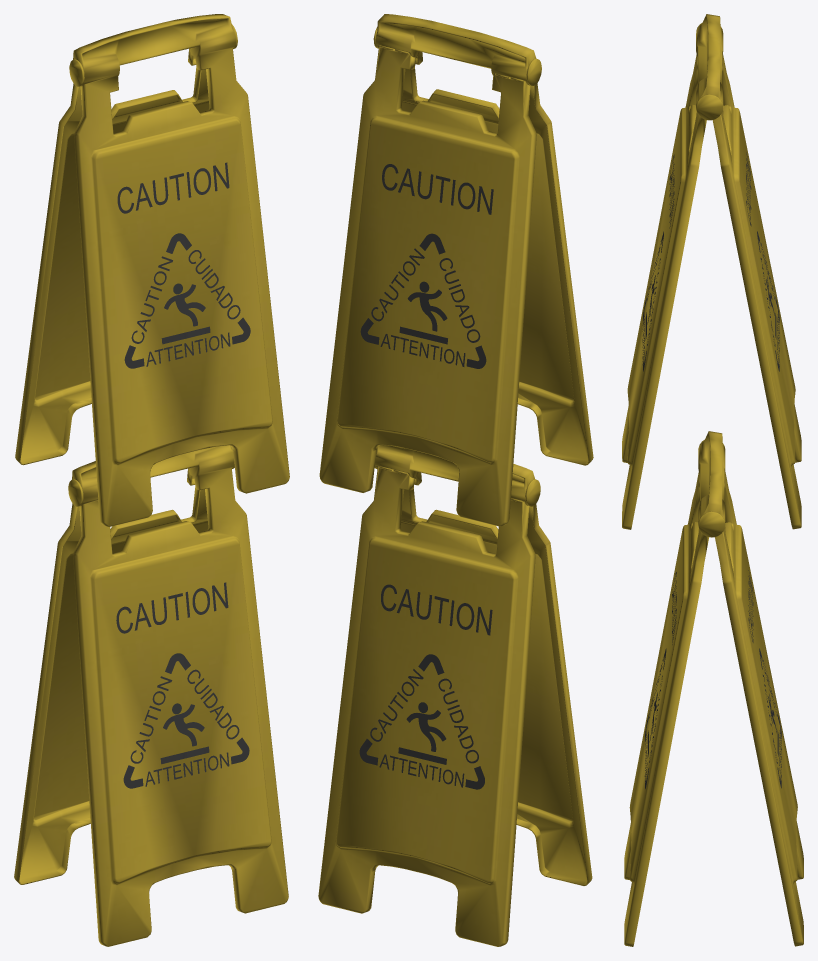
File: sign_wetFloor_a01.glb
3 renders of one model, left to right at view 1: azimuth 30°, elevation 25°; view 2: azimuth 150°, elevation 25°; view 3: azimuth 270°, elevation 25°, orthographic.
Visible parts, largest first — view 1: sm_backpanel_a01_mesh_00 (×2), sm_frontpanel_a01_mesh_00 (×2); view 2: sm_frontpanel_a01_mesh_00 (×2), sm_backpanel_a01_mesh_00 (×2); view 3: sm_backpanel_a01_mesh_00 (×2), sm_frontpanel_a01_mesh_00 (×2).
Boxes of the visible parts, x1=… form: sm_backpanel_a01_mesh_00 (×2): x1=68, y1=14, x2=289, y2=946; sm_frontpanel_a01_mesh_00 (×2): x1=14, y1=49, x2=209, y2=884; sm_frontpanel_a01_mesh_00 (×2): x1=318, y1=45, x2=536, y2=946; sm_backpanel_a01_mesh_00 (×2): x1=373, y1=14, x2=593, y2=885; sm_backpanel_a01_mesh_00 (×2): x1=622, y1=14, x2=725, y2=946; sm_frontpanel_a01_mesh_00 (×2): x1=712, y1=54, x2=803, y2=946.
Bounding box in the file's own units: 0.2794 × 1.24 × 0.2381.
4 materials, 4 textured.
